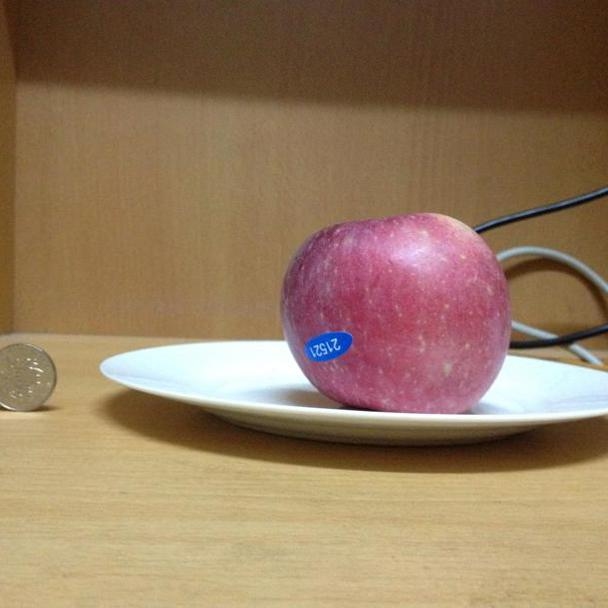apple: (277, 211, 514, 416)
